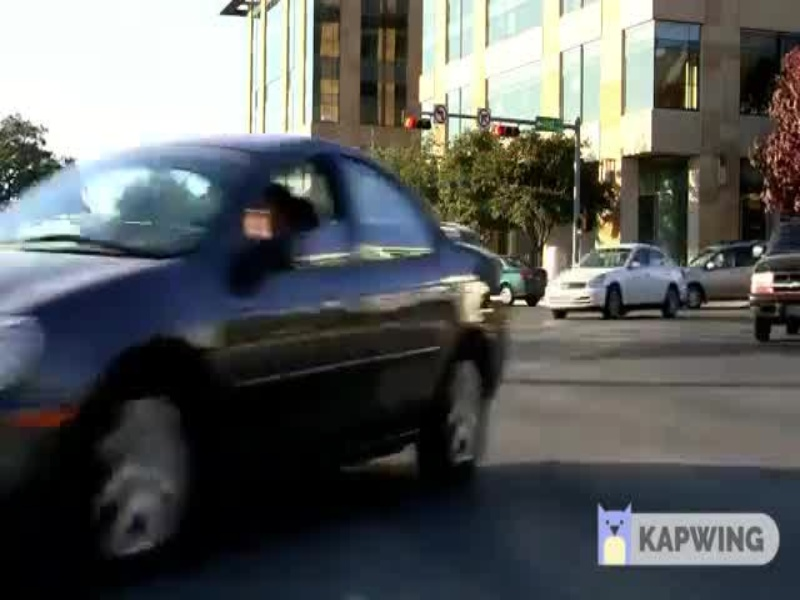car: (1, 127, 513, 516), (543, 244, 685, 321)
